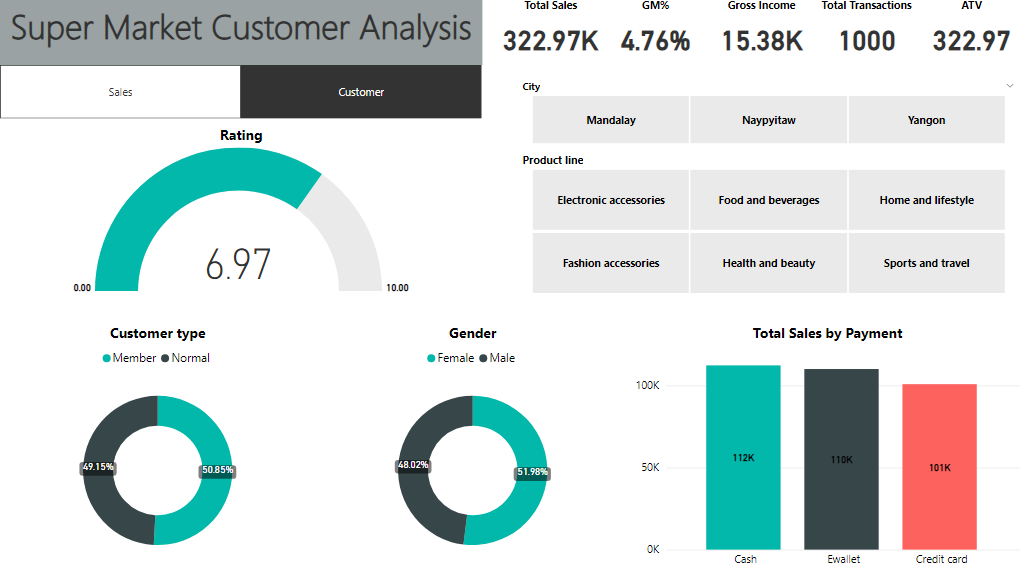

The dashboard page shown, as its layout file describes it:
{"tool":"powerbi","page":{"name":"Customer","canvas":[1280,720],"ordinal":1},"visuals":[{"type":"donutChart","title":"Customer type","fields":{"Category":["SuperMarket_Sales.Customer type"],"Y":["Sum(SuperMarket_Sales.Total)"]},"box":[0,405.7,394.3,314.3],"z":0},{"type":"donutChart","title":"Gender","fields":{"Category":["SuperMarket_Sales.Gender"],"Y":["Sum(SuperMarket_Sales.Total)"]},"box":[394.3,405.7,394.3,314.3],"z":1000},{"type":"textbox","box":[0,0,602.9,84.3],"z":2000},{"type":"pageNavigator","box":[0,84.3,602.9,67.1],"z":3000},{"type":"card","title":"Total Sales","fields":{"Values":["Sum(SuperMarket_Sales.Total)"]},"box":[622.9,0,131.4,84.3],"z":4000},{"type":"card","title":"ATV","fields":{"Values":["SuperMarket_Sales.ATV"]},"box":[1148.6,0,131.4,84.3],"z":5000},{"type":"card","title":"Total Transactions","fields":{"Values":["SuperMarket_Sales.Number of Orders"]},"box":[1017.1,0,131.4,84.3],"z":6000},{"type":"card","title":"Gross Income","fields":{"Values":["Sum(SuperMarket_Sales.Gross income)"]},"box":[885.7,0,131.4,84.3],"z":7000},{"type":"card","title":"GM%","fields":{"Values":["Avg(SuperMarket_Sales.GM%)"]},"box":[754.3,0,131.4,84.3],"z":8000},{"type":"columnChart","title":"Total Sales by Payment","fields":{"Category":["SuperMarket_Sales.Payment"],"Y":["Sum(SuperMarket_Sales.Total)"],"Series":["SuperMarket_Sales.Payment"]},"box":[788.6,405.7,491.4,314.3],"z":9000},{"type":"gauge","title":"Rating ","fields":{"Y":["Avg(SuperMarket_Sales.Rating)"],"MaxValue":["Max(SuperMarket_Sales.Rating)2"]},"box":[0,158.3,602.8,217.5],"z":10000},{"type":"slicer","fields":{"Values":["SuperMarket_Sales.City"]},"box":[640,97.1,640,91.4],"z":11000},{"type":"slicer","fields":{"Values":["SuperMarket_Sales.Product line"]},"box":[640,188.6,640,187.1],"z":12000}]}

Visuals, with their boxes in screenshot pixels (x1, y1, x2, y2), scaled from the page's 1280x720 canvas onto the 1023x574 screenshot:
"Customer type" donutChart: (left=0, top=323, right=315, bottom=573)
"Gender" donutChart: (left=315, top=323, right=630, bottom=573)
textbox: (left=0, top=0, right=482, bottom=67)
pageNavigator: (left=0, top=67, right=482, bottom=121)
"Total Sales" card: (left=498, top=0, right=603, bottom=67)
"ATV" card: (left=918, top=0, right=1022, bottom=67)
"Total Transactions" card: (left=813, top=0, right=918, bottom=67)
"Gross Income" card: (left=708, top=0, right=813, bottom=67)
"GM%" card: (left=603, top=0, right=708, bottom=67)
"Total Sales by Payment" columnChart: (left=630, top=323, right=1022, bottom=573)
"Rating " gauge: (left=0, top=126, right=482, bottom=300)
slicer - SuperMarket_Sales.City: (left=512, top=77, right=1022, bottom=150)
slicer - SuperMarket_Sales.Product line: (left=512, top=150, right=1022, bottom=300)
